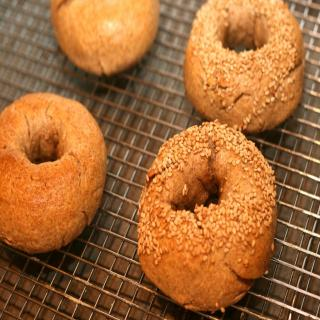Doughnut: (136, 119, 278, 314), (0, 89, 107, 248), (184, 0, 308, 136), (49, 0, 162, 76)
